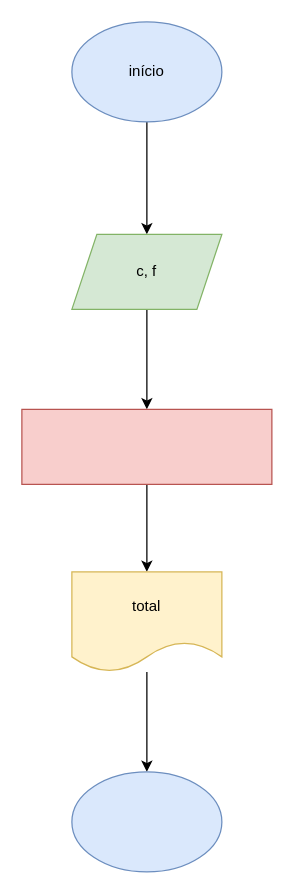
Some shapes in this 294 by 894 pixel diagram are drawn without their labels. The centre of each missing label's shape, as x and y in pixels:
"f <- (9*C+160)/5" goes at (x=146, y=446).
"fim" goes at (x=146, y=821).
